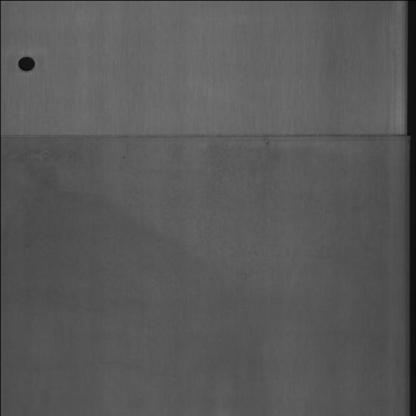punching_hole: (15, 54, 39, 76)
welding_line: (3, 116, 414, 147)
